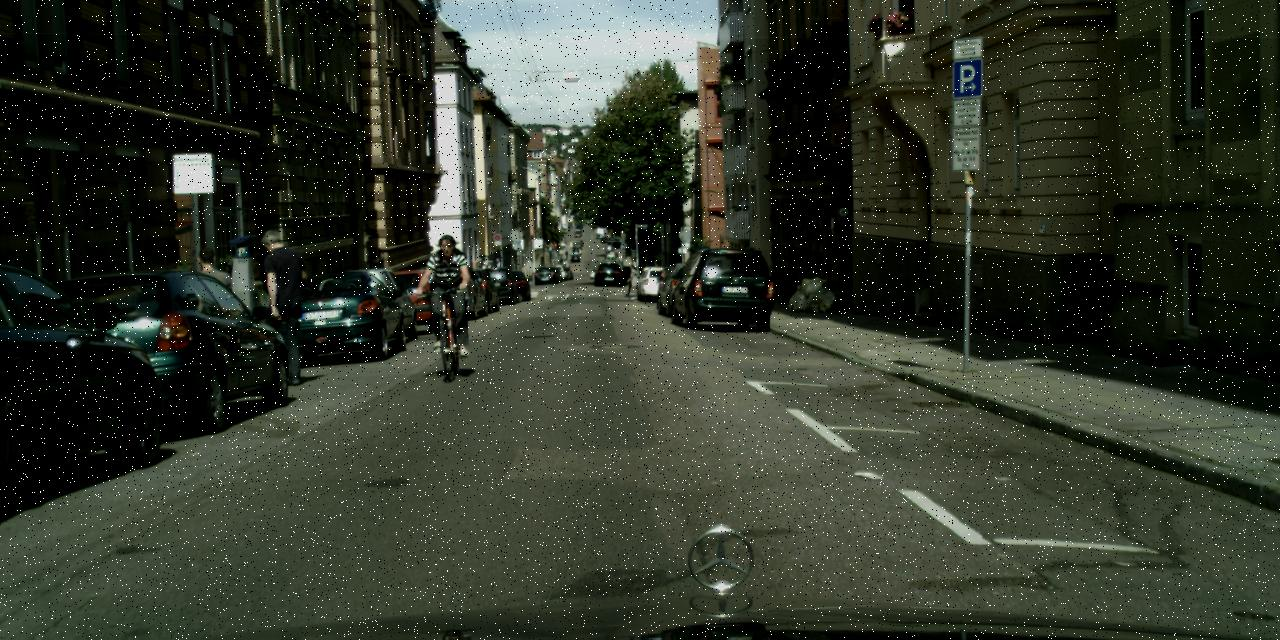ped: (243, 230, 306, 381), (188, 247, 240, 377), (425, 234, 474, 353), (626, 264, 639, 296), (492, 257, 502, 282)
